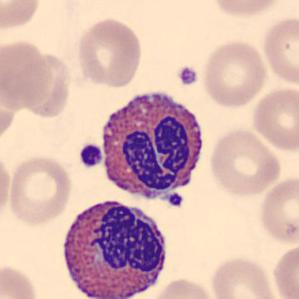Eosinophil: (95, 83, 210, 214), (55, 192, 173, 299)
Platelets: (77, 142, 105, 170), (176, 64, 200, 87), (167, 191, 184, 209)
RBC: (207, 125, 283, 199), (74, 16, 145, 89), (6, 153, 74, 228), (200, 38, 268, 110), (0, 37, 54, 111), (208, 253, 281, 299), (250, 85, 298, 152), (257, 174, 298, 246), (260, 14, 298, 87), (144, 275, 217, 299), (271, 241, 298, 299), (208, 0, 286, 19), (0, 262, 40, 299), (0, 0, 43, 33), (0, 148, 13, 222)
